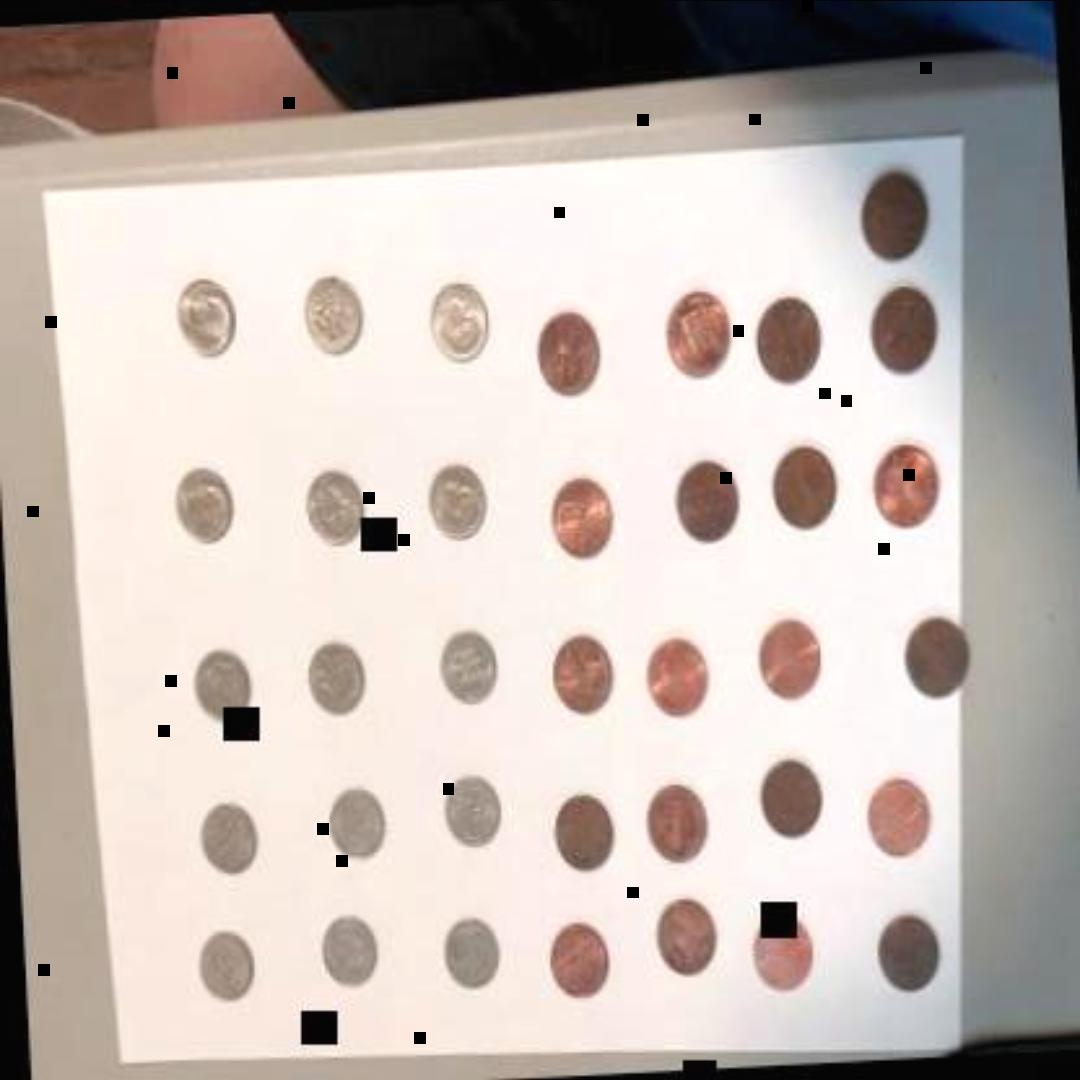Dime: (168, 267, 240, 363), (424, 457, 491, 547), (302, 268, 368, 358), (188, 644, 255, 732), (434, 911, 500, 999), (169, 466, 233, 556), (304, 636, 366, 726), (313, 916, 377, 1000), (318, 784, 382, 868), (192, 924, 254, 1010), (426, 280, 488, 366), (197, 800, 259, 884), (303, 469, 365, 549), (439, 771, 501, 851), (436, 627, 498, 707)
Penny: (856, 168, 939, 266), (753, 292, 825, 394), (546, 628, 618, 728), (642, 636, 719, 726), (766, 441, 838, 537), (668, 460, 744, 550), (901, 612, 968, 712), (752, 616, 824, 706), (869, 442, 941, 532), (869, 289, 941, 379), (664, 290, 730, 386), (747, 911, 819, 999), (757, 757, 827, 847), (645, 778, 712, 870), (534, 316, 601, 406), (550, 472, 617, 562), (548, 794, 616, 880), (542, 923, 614, 1003), (862, 775, 934, 855), (653, 894, 720, 978), (878, 912, 945, 995)
